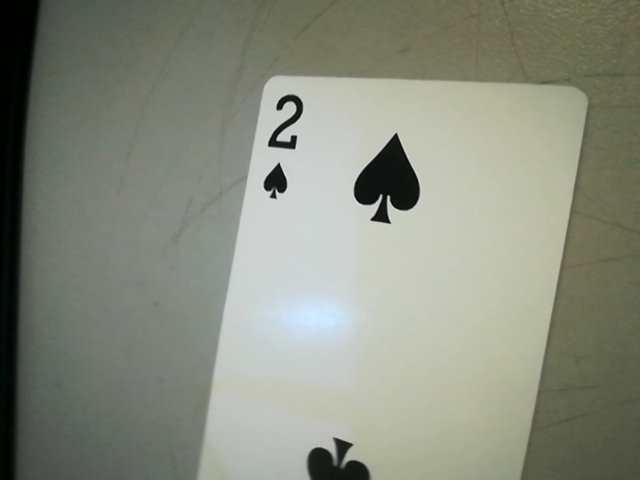ht 2: (253, 85, 314, 208)
